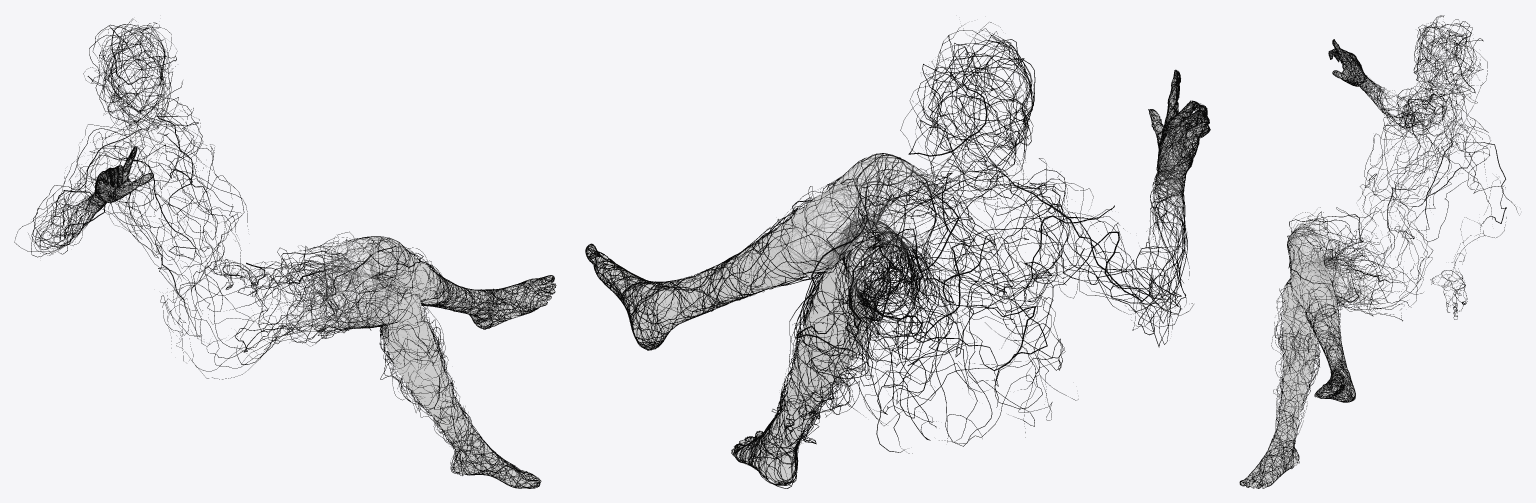
The model's file is model-4.CykbczgT.glb.
3 views of the same model, side by side, from view 1: azimuth 30°, elevation 25°; view 2: azimuth 150°, elevation 25°; view 3: azimuth 270°, elevation 25° (orthographic). The views are drawn at different scales.
Visible parts, largest first — view 1: veins, rndr_pose_06_v2; view 2: veins, rndr_pose_06_v2; view 3: veins, rndr_pose_06_v2.
Part boxes in pixels (box(x1,y1,x2,y2)): veins: box(14, 18, 556, 488); rndr_pose_06_v2: box(83, 148, 555, 487); veins: box(585, 22, 1210, 488); rndr_pose_06_v2: box(587, 72, 1207, 482); veins: box(1239, 15, 1519, 488); rndr_pose_06_v2: box(1241, 41, 1375, 488).
Size of the model in its own units: 1.3 by 1.19 by 0.8368.
Materials: 2 (1 with a texture image).
